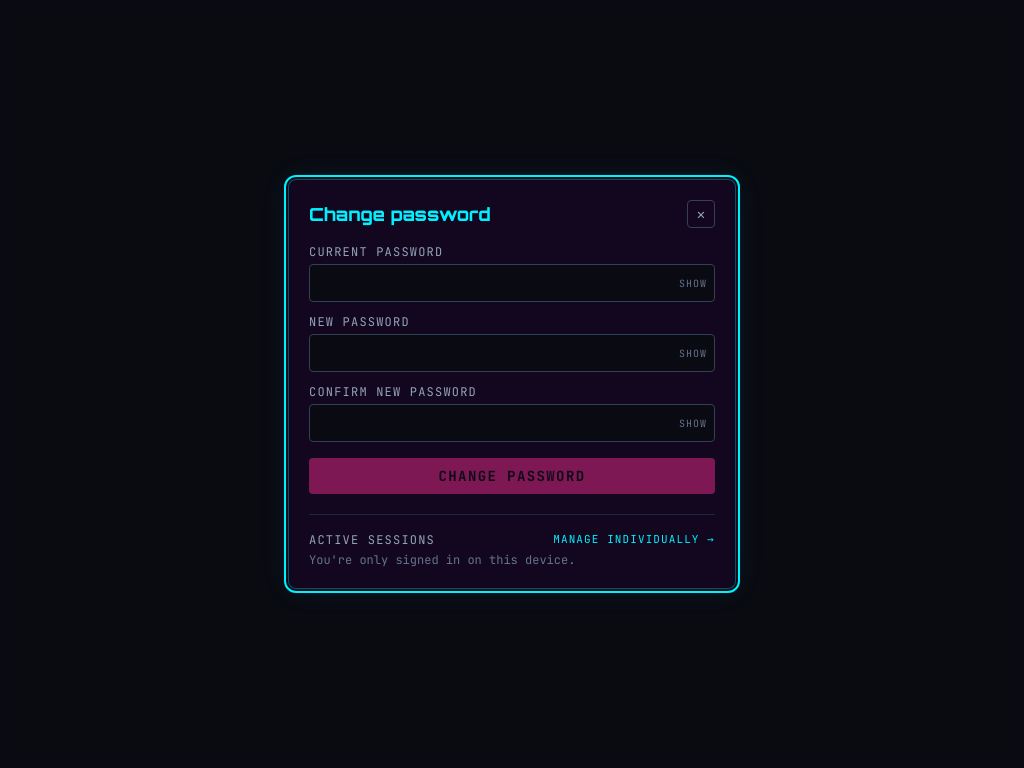
ChangePasswordModal › shows a specific, actionable rate-limit message on 429 - not the generic failure text
Type "wrongpass" into the password field labelled "Current password" at [512, 283], box [309,264,715,302]
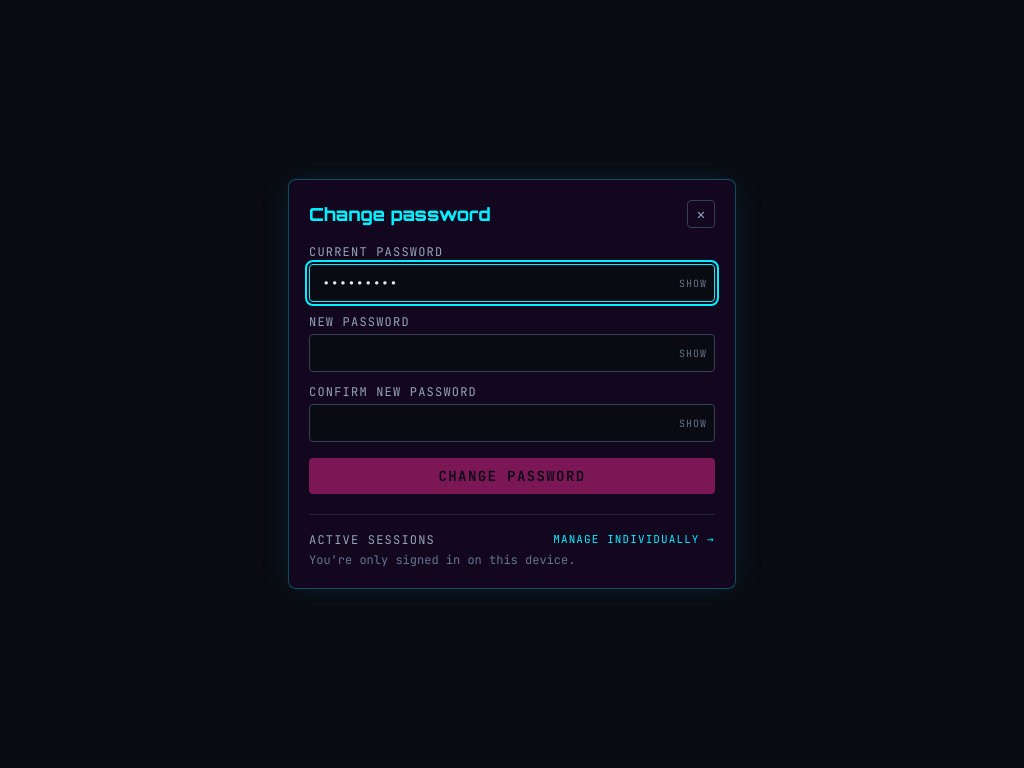
Type "newpass123" into the password field labelled "New password" at [512, 353], box [309,334,715,372]
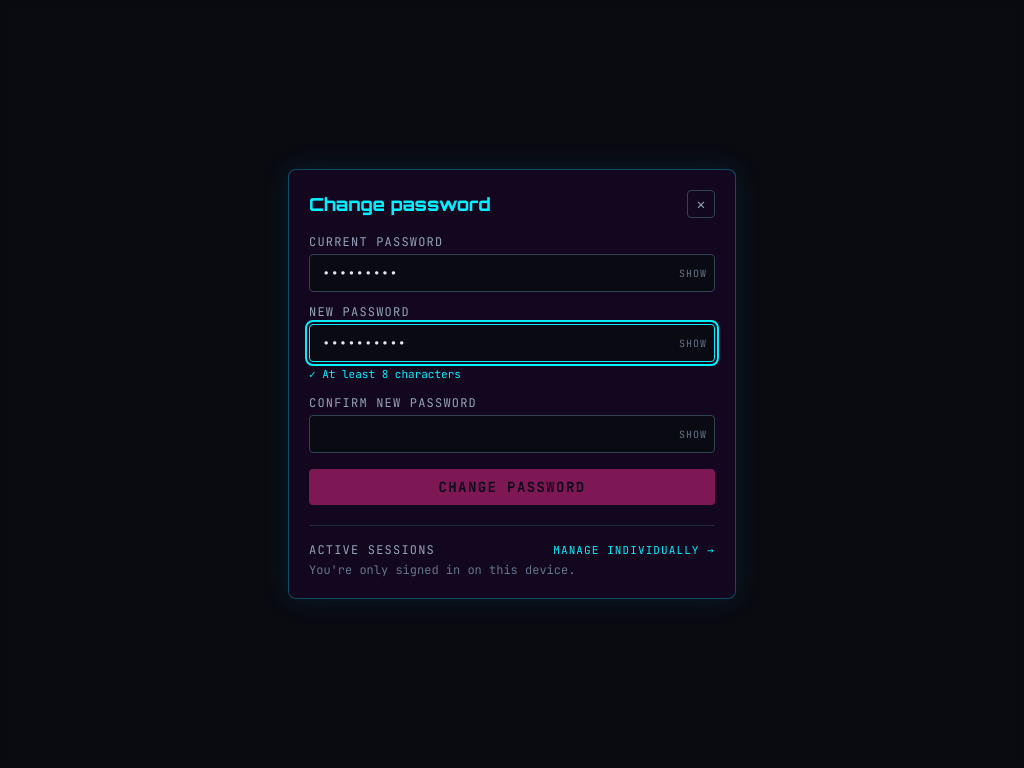
Type "newpass123" into the password field labelled "Confirm new password" at [512, 434], box [309,414,715,452]
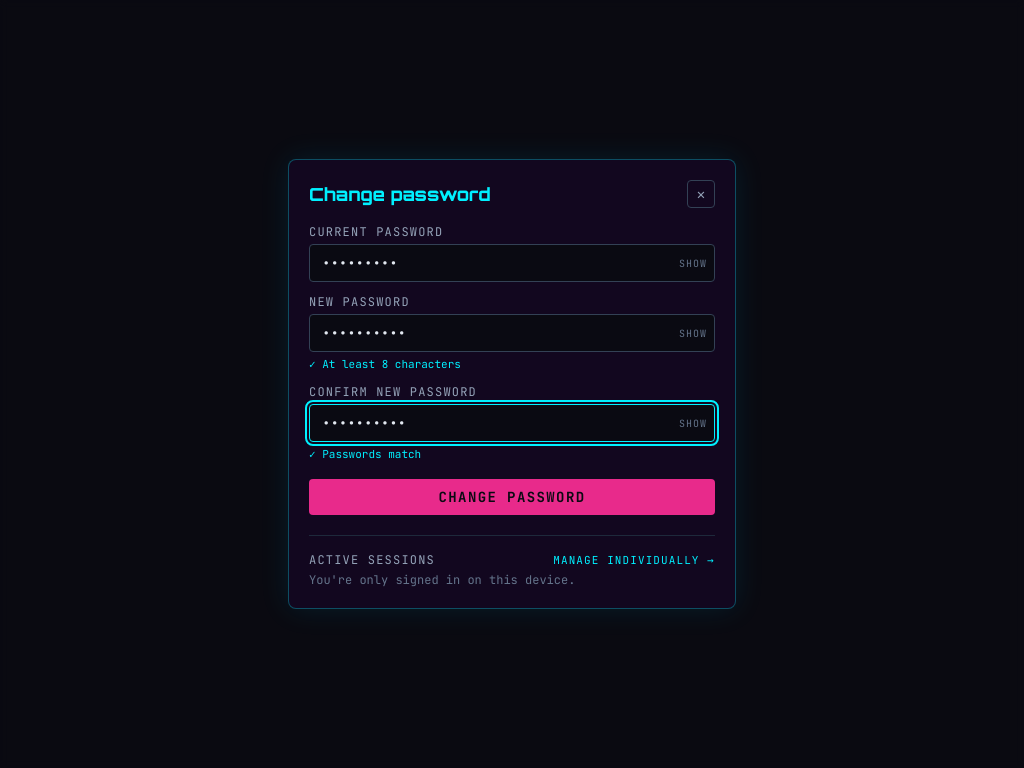
Click the button "Change password" at [512, 497], box [309,479,715,515]
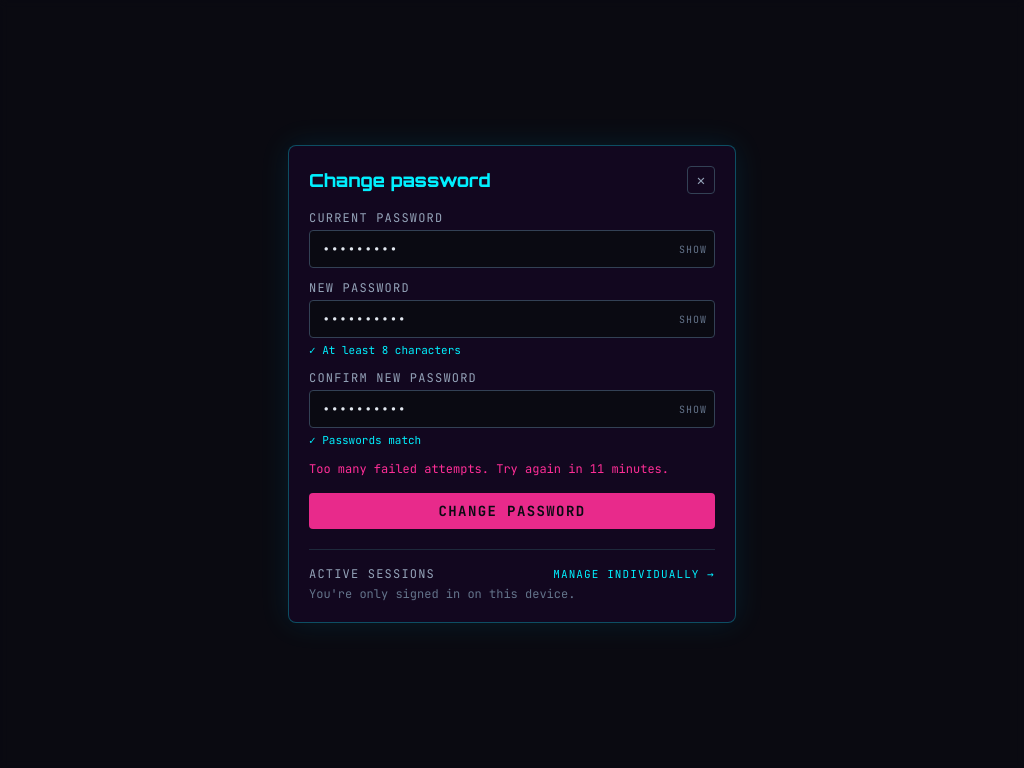
Check: the text "Too many failed attempts. Try again in 11 minutes." is shown, box [309,461,715,477]
